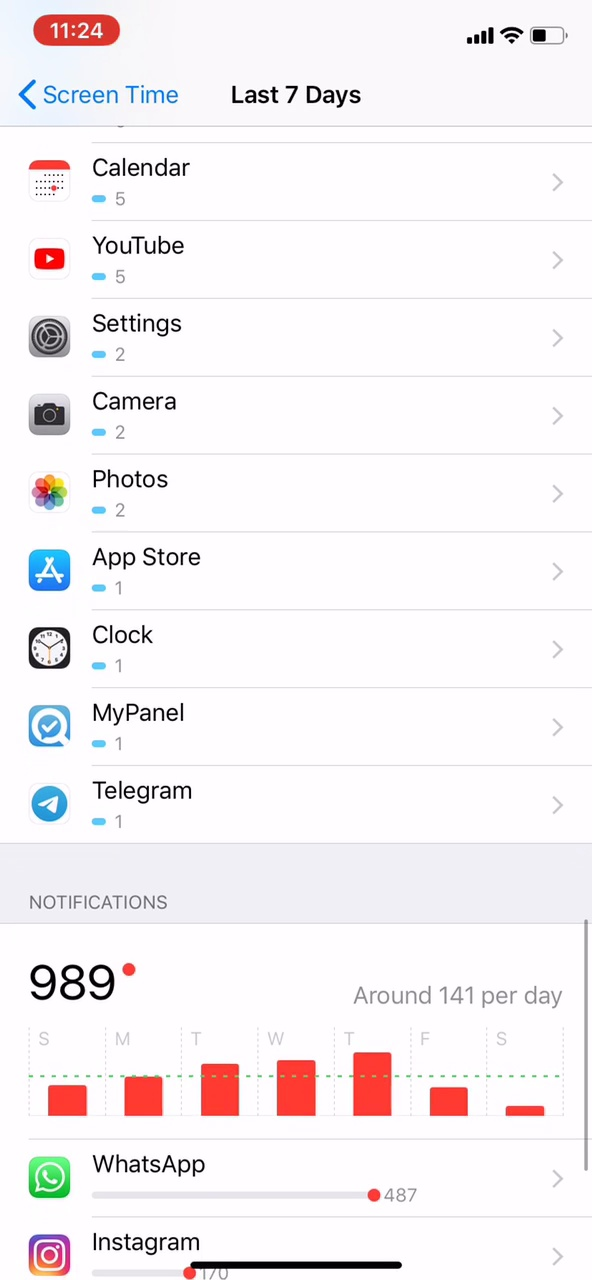not_app: (22, 1144, 453, 1208)
not_over: (9, 864, 217, 1014)
pick_app: (25, 296, 234, 378), (14, 538, 259, 602), (25, 221, 250, 288), (26, 141, 231, 214), (12, 460, 240, 525), (29, 380, 243, 446), (22, 772, 226, 835), (20, 696, 204, 757), (18, 622, 203, 680)
week: (217, 73, 374, 109)
